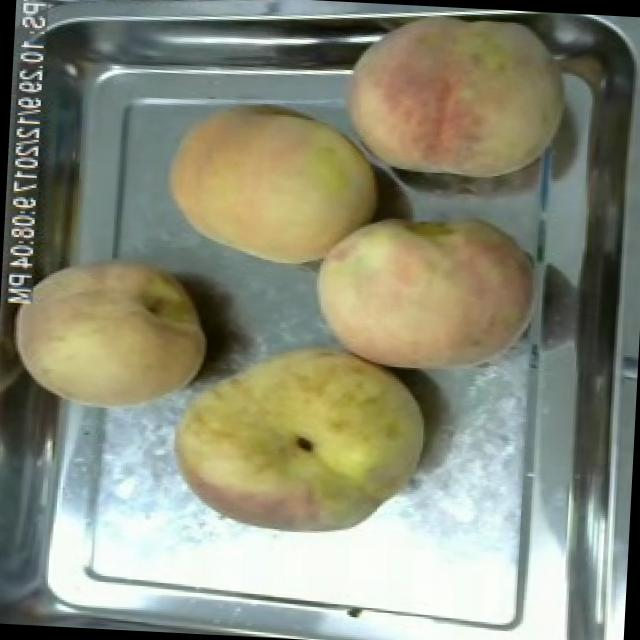Fruit: (160, 322, 436, 550), (332, 2, 587, 198), (152, 91, 394, 282), (302, 198, 544, 388), (2, 242, 222, 422)
